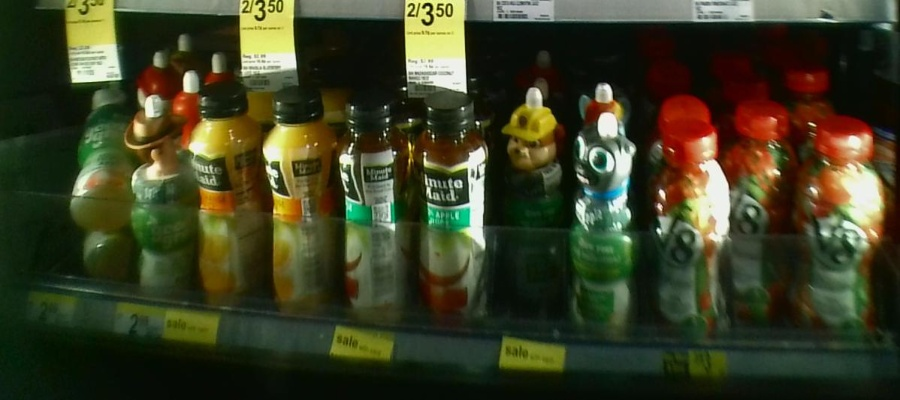bottle: (640, 104, 732, 335), (414, 84, 498, 330), (563, 82, 641, 336), (797, 112, 883, 332), (184, 71, 264, 307), (260, 85, 336, 309), (500, 82, 567, 324), (341, 96, 413, 320), (729, 99, 794, 324), (128, 88, 190, 294), (60, 73, 131, 223)
